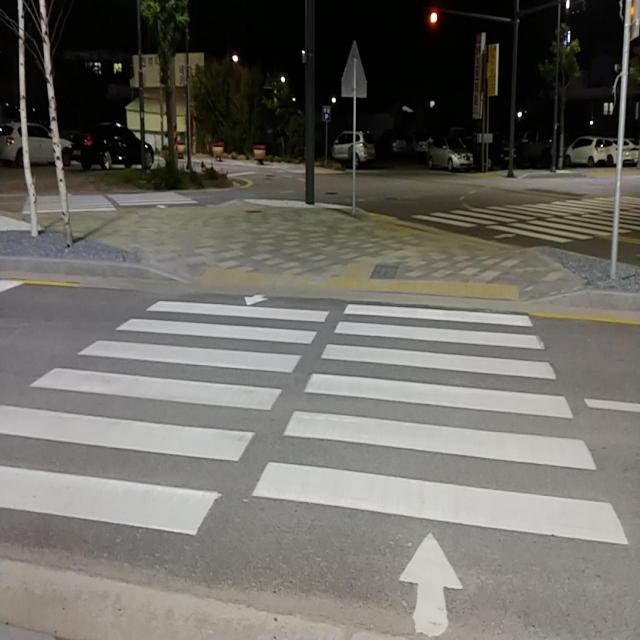횡단보도: (0, 291, 631, 640), (448, 193, 640, 261), (22, 184, 202, 229)
